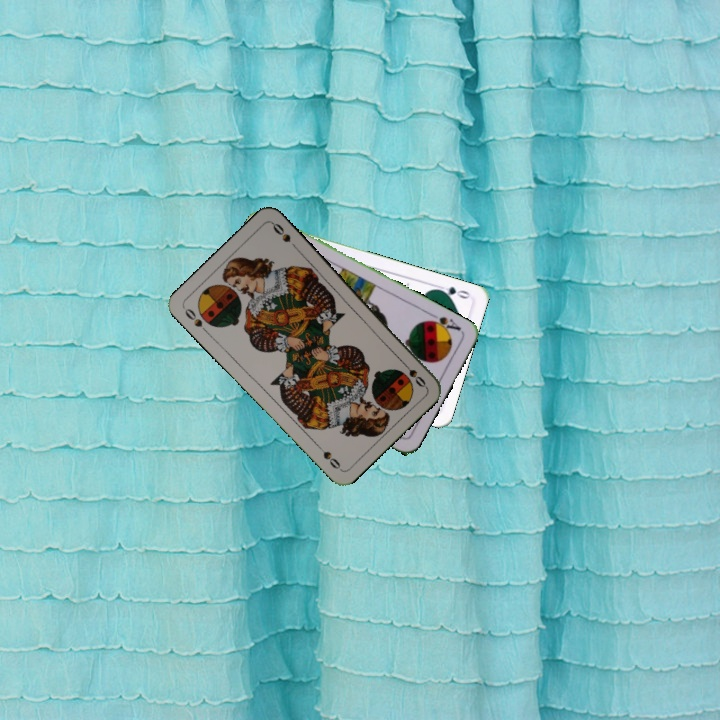GO: (432, 282, 472, 302)
SA: (423, 312, 464, 336)
SO: (397, 357, 428, 390), (181, 304, 211, 337)
